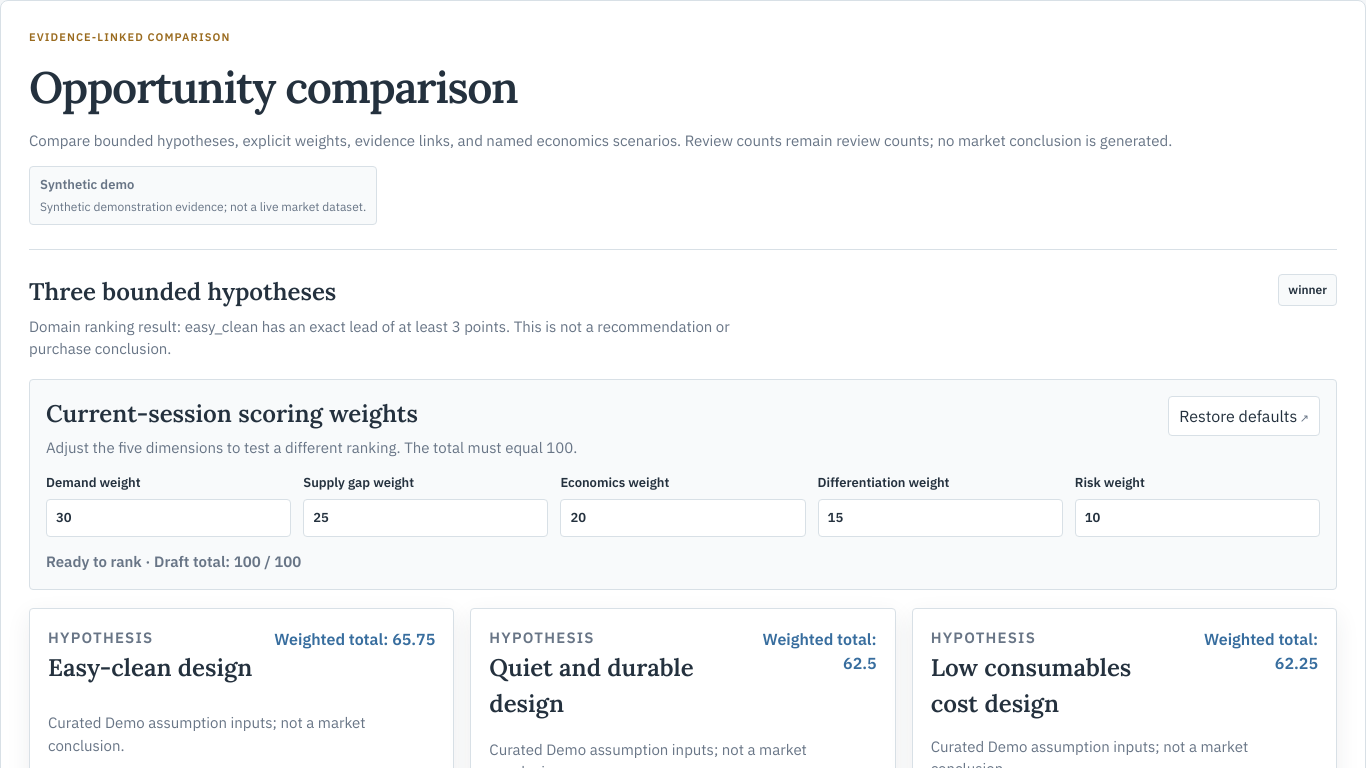
Test case: OpportunitiesPage economics workspace › keeps invalid drafts unavailable, restores valid custom edits, and resets defaults
expect the text with test id "opportunity-ranking-status" reads "winner": met, box [1288,282,1327,296]
Clear the field labelled "Demand weight" at coordinates (169, 518), box [46,498,291,536]
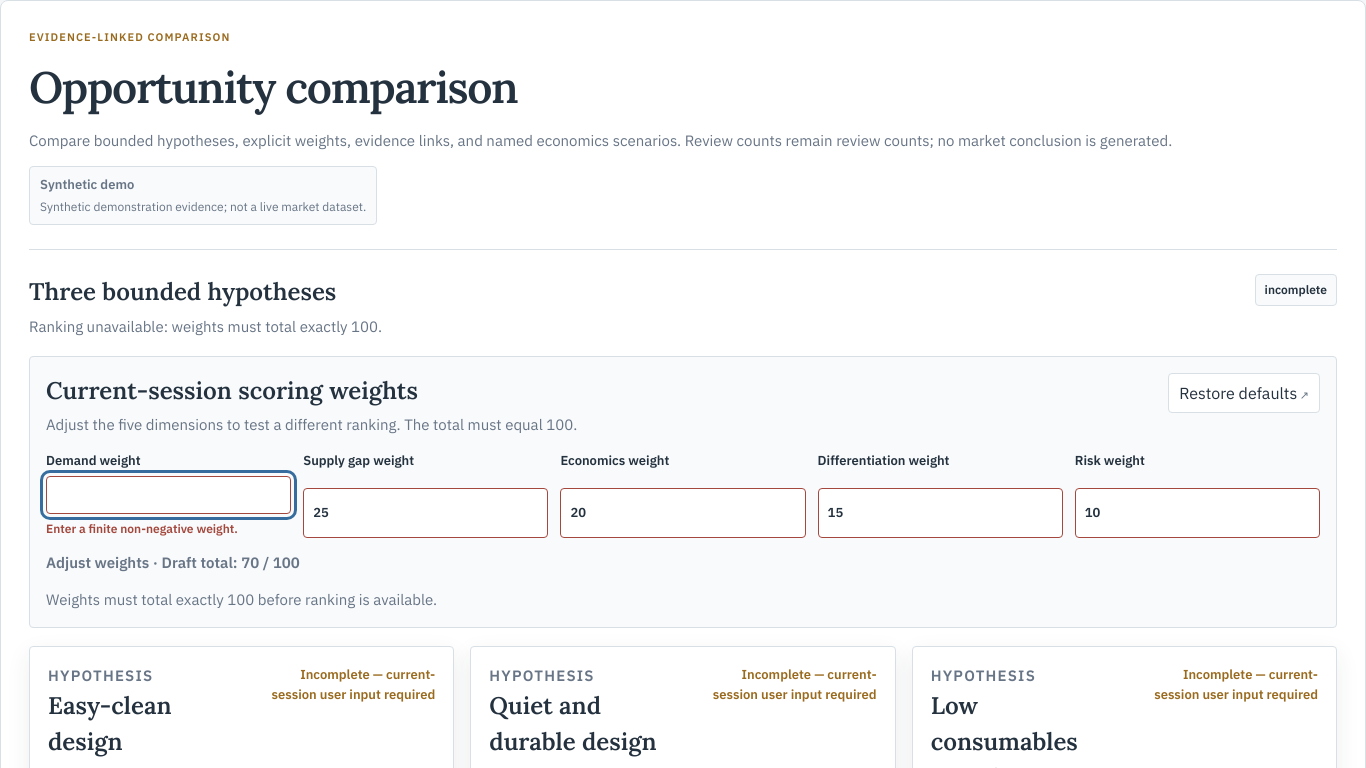
Type "oops" into the field labelled "Demand weight" at coordinates (169, 495), box [46,476,291,514]
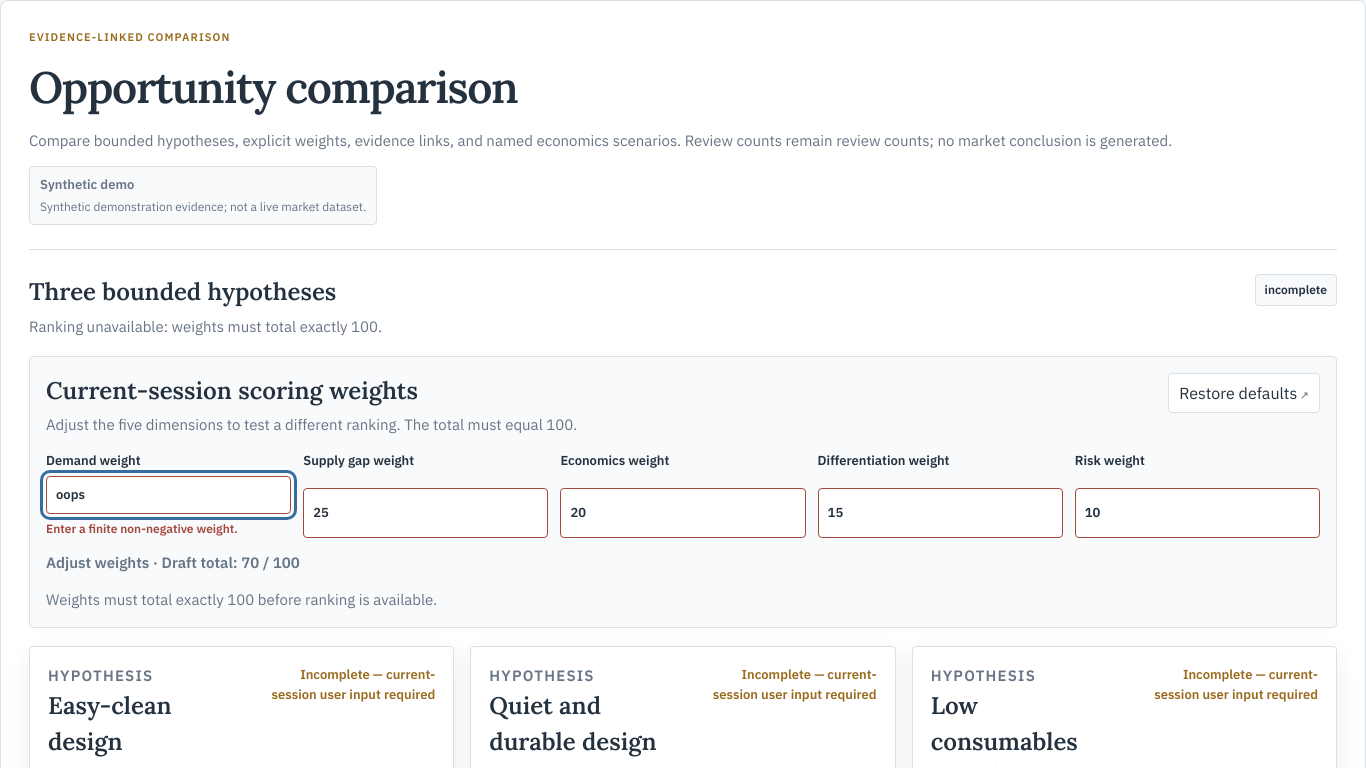
expect the text "Weighted total:" is not shown: met
expect the text with test id "opportunity-ranking-status" reads "incomplete": met, box [1265,282,1327,296]
Replace the text in the field labelled "Demand weight" with "20" at coordinates (169, 495), box [46,476,291,514]
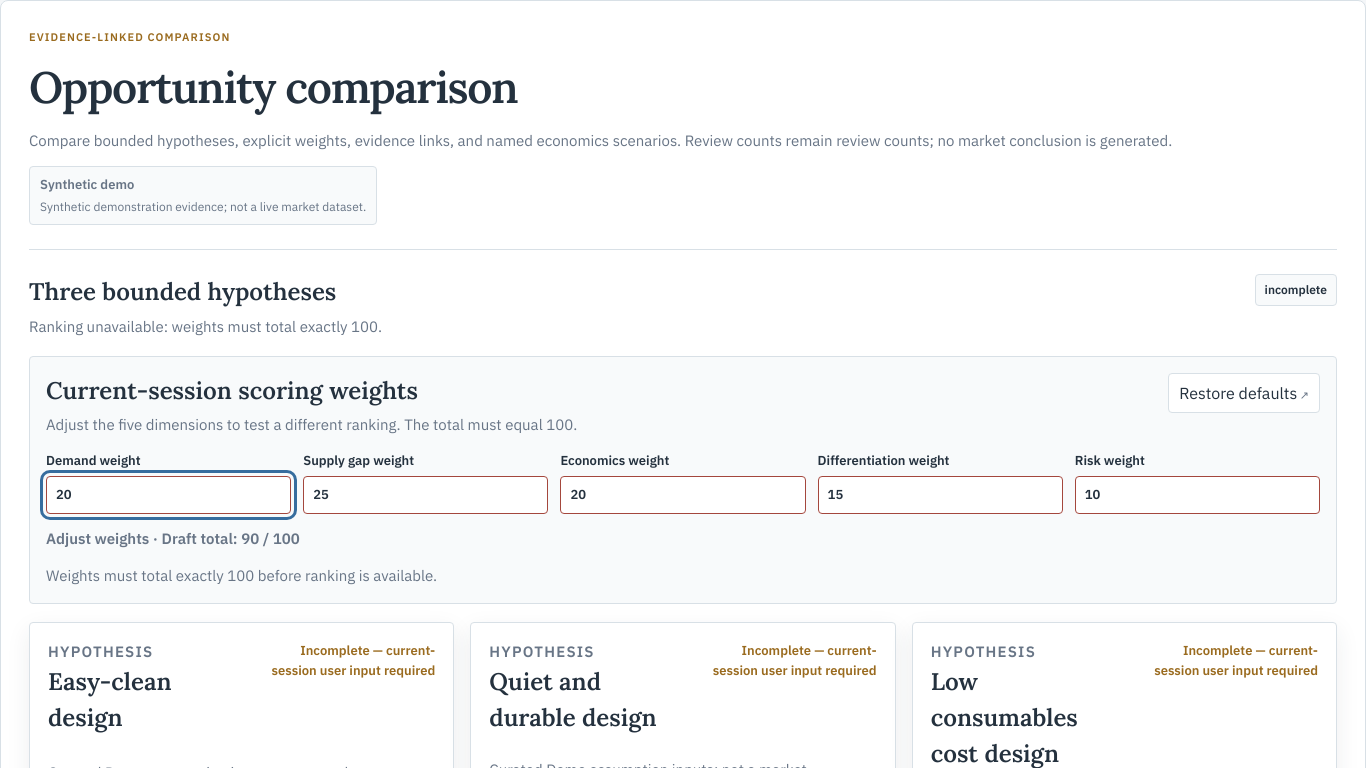
Replace the text in the field labelled "Supply gap weight" with "35" at coordinates (426, 495), box [303,476,548,514]
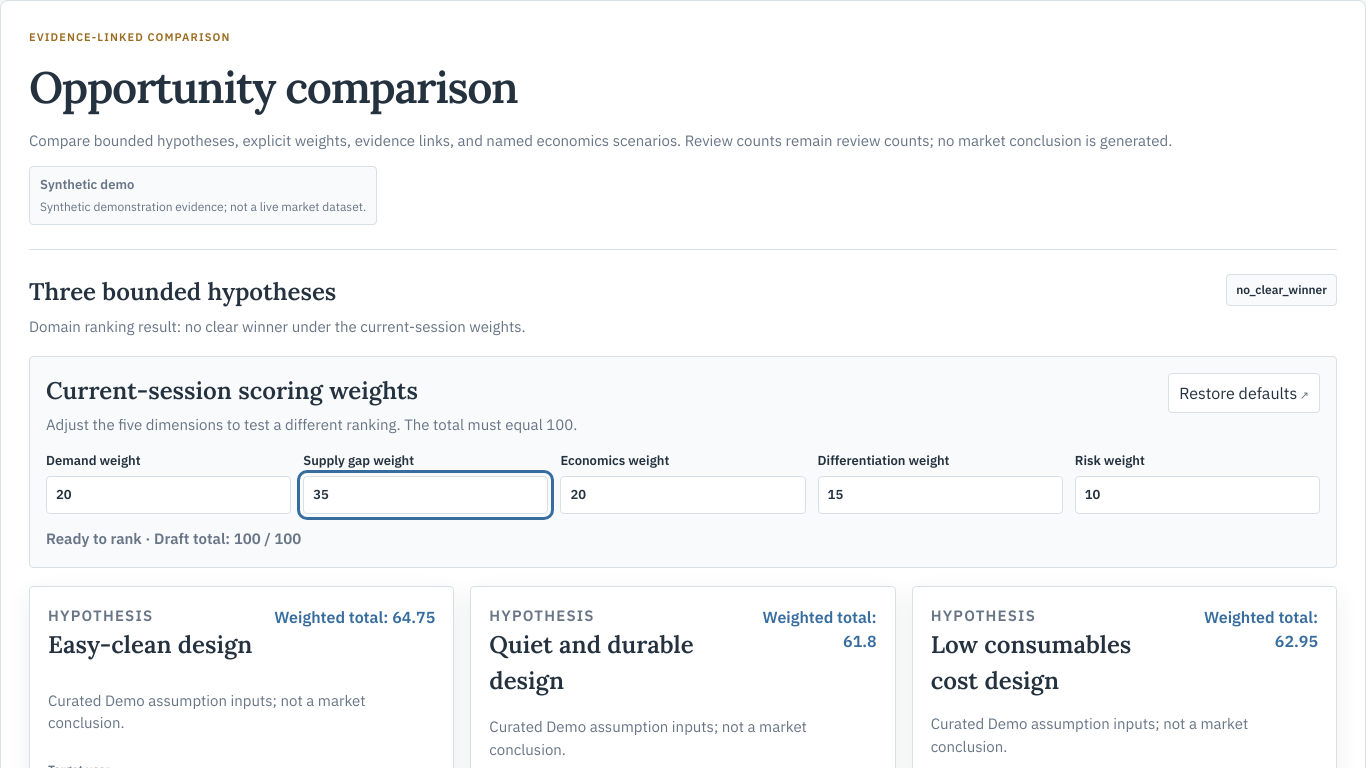
expect the text with test id "opportunity-ranking-status" reads "no_clear_winner": met, box [1236,282,1327,296]
Click the button "Restore defaults" at coordinates (1244, 393), box [1168,373,1320,413]
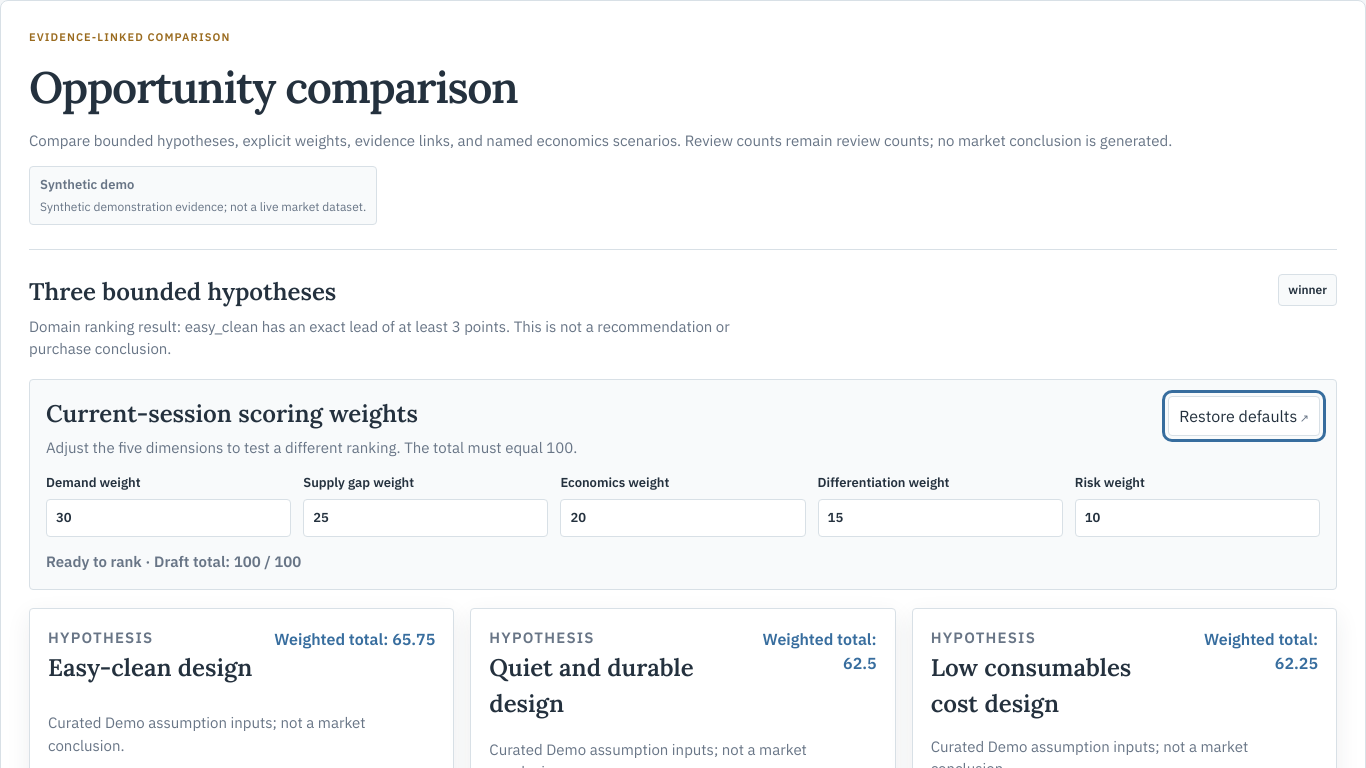
expect the text with test id "weight-total" shows "100": met, box [234,552,261,570]
expect the field labelled "Demand weight" holds "30": met, box [46,498,291,536]
expect the text "Weighted total: 65.75" is shown: met, box [274,627,435,651]
